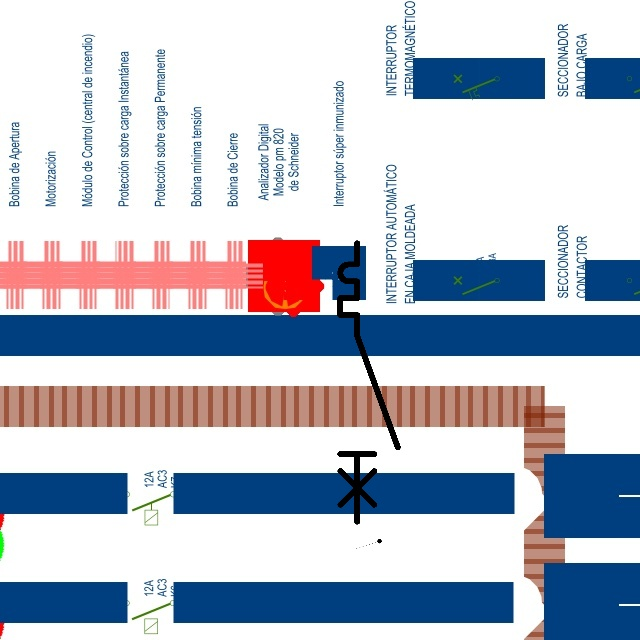interruptor_termomagnetico: (333, 236, 404, 529)
